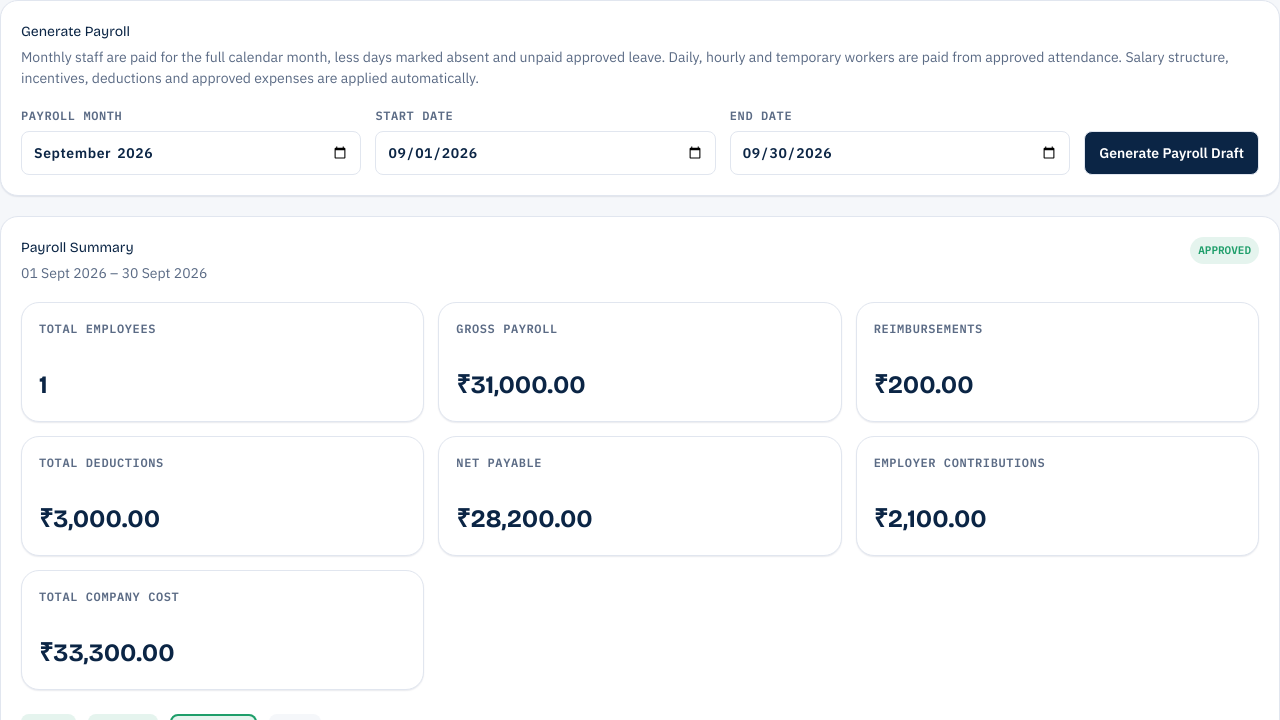
Test: simple payroll workspace › changes the date range when a payroll month is selected
Replace the text in the field labelled "Payroll Month" with "2028-02". click: (191, 153)
box: top-left (21, 131), bottom-right (361, 175)
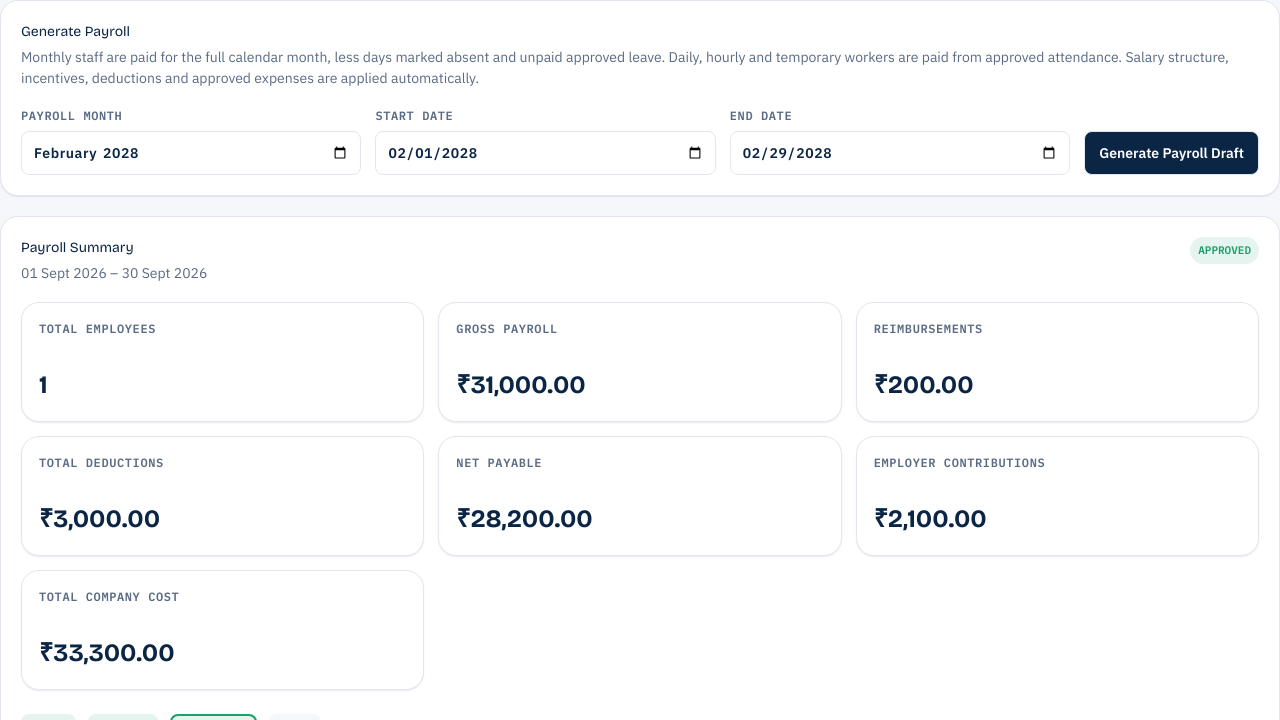
Result: the date field labelled "Start Date" holds "2028-02-01" at top-left (375, 131), bottom-right (716, 175)
Result: the date field labelled "End Date" holds "2028-02-29" at top-left (730, 131), bottom-right (1070, 175)
